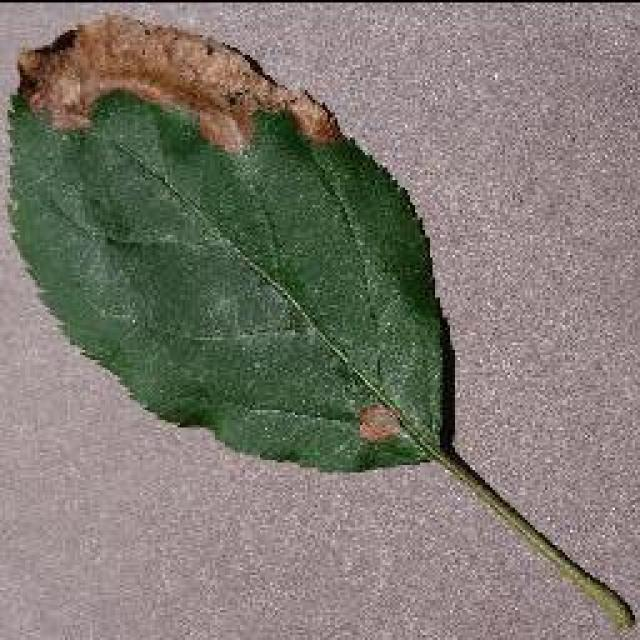Black_rot: (3, 12, 635, 630), (5, 82, 455, 472)
